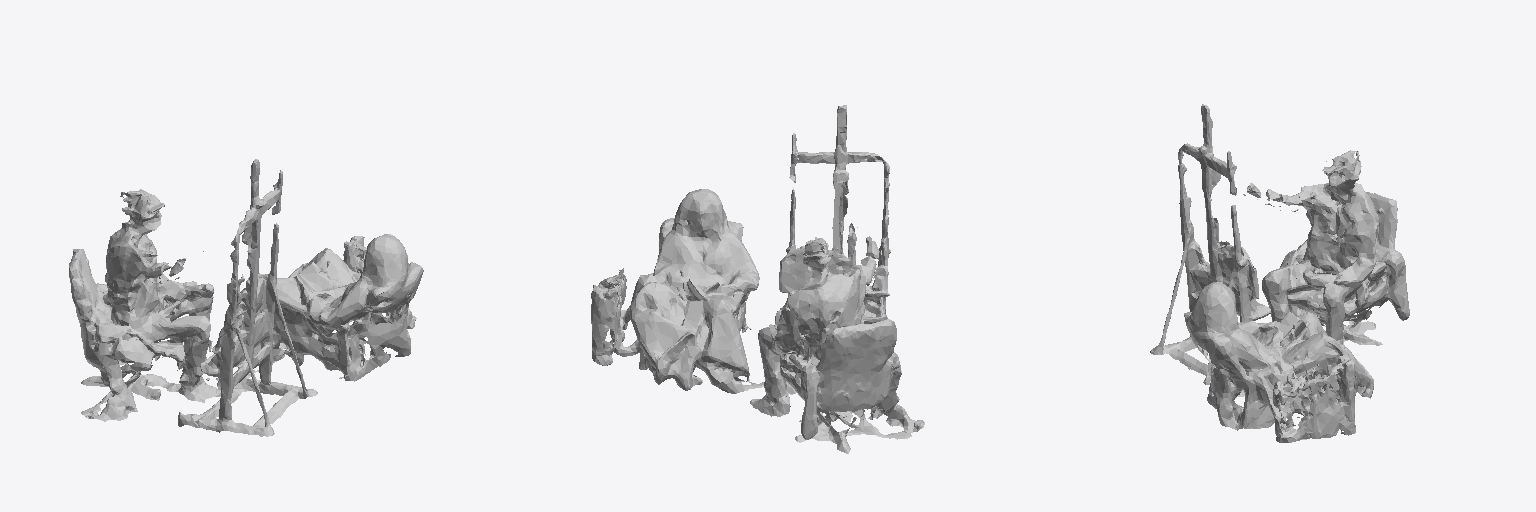
Rendered from HarleyPaintingChristine_textured_mesh_lowpoly.obj.
3 renders of one model, left to right at view 1: azimuth 30°, elevation 25°; view 2: azimuth 150°, elevation 25°; view 3: azimuth 270°, elevation 25°, orthographic.
Size of the model in its own units: 4.64 by 3.6 by 3.21.